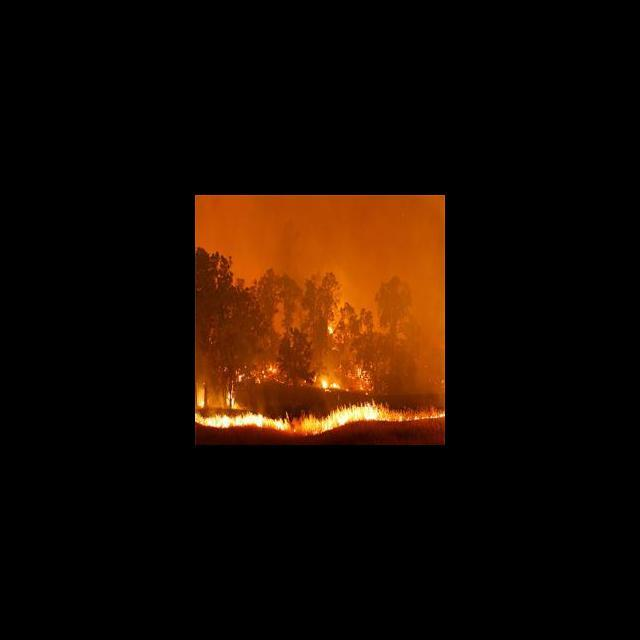Fire: (196, 398, 444, 438), (236, 364, 279, 384), (318, 376, 344, 392), (324, 324, 336, 334)
